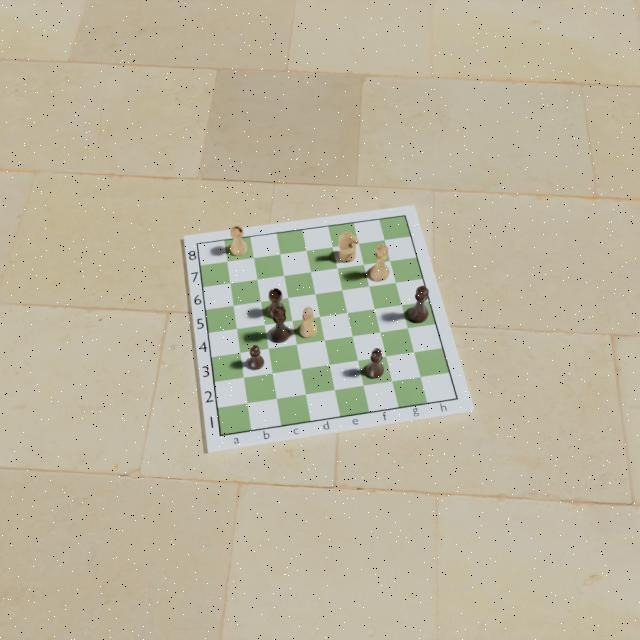black-bishop: (363, 347, 384, 379)
black-king: (406, 284, 429, 324)
black-pawn: (247, 343, 265, 371)
black-queen: (268, 305, 293, 343)
black-rook: (266, 286, 287, 318)
white-bishop: (297, 305, 318, 339)
white-king: (366, 241, 389, 282)
white-knight: (336, 229, 359, 264)
white-rook: (229, 223, 247, 257)
